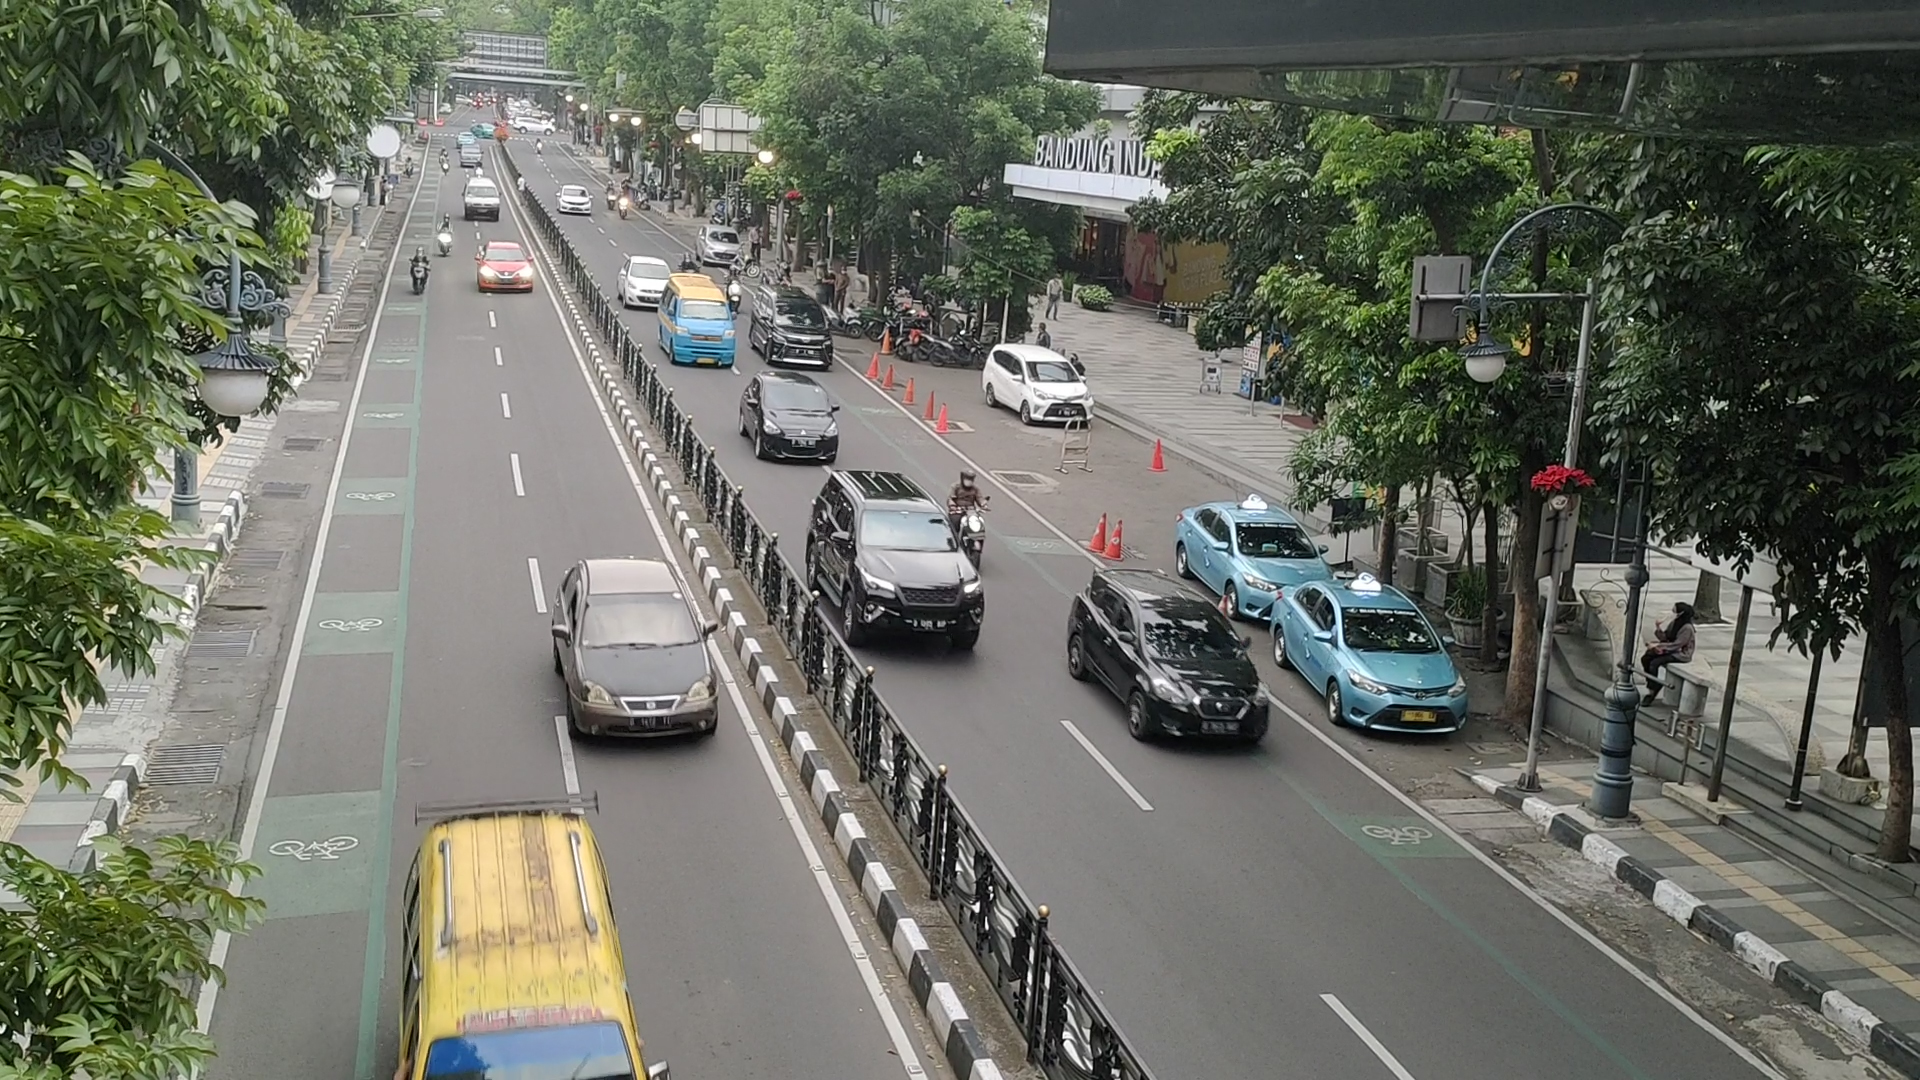mobil: (568, 588, 719, 749), (1125, 597, 1269, 752), (845, 506, 984, 655), (1329, 605, 1472, 737), (754, 376, 839, 467), (1015, 356, 1095, 429)
motor: (943, 464, 1001, 596)
